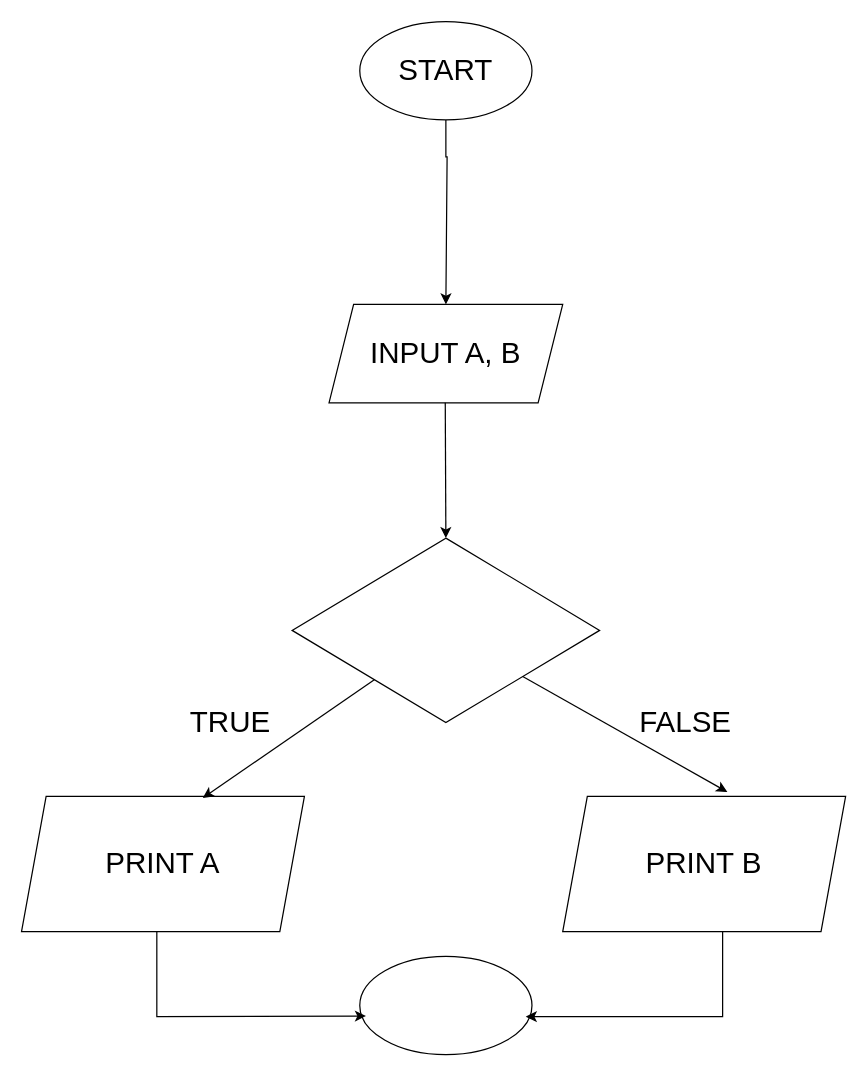
Image size: 867x1076. Some labels were removed from this diagram. The box of each missing label's shape, as (x1, y1, x2, y2) in pixels:
END: (359, 955, 532, 1055)
IF A < B: (291, 537, 600, 723)
